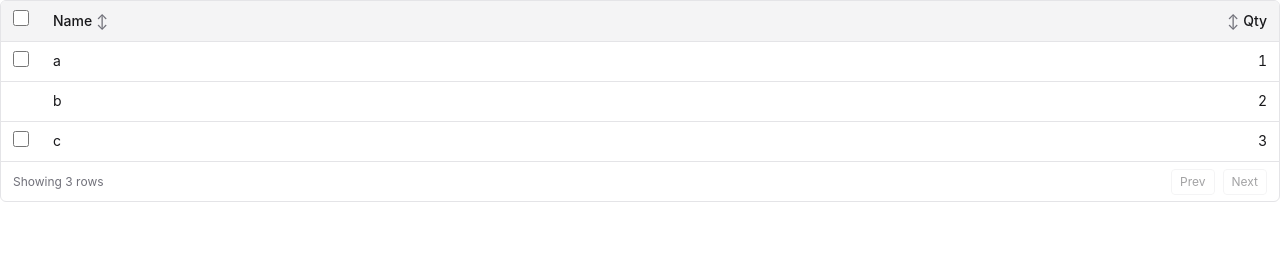
Scenario: selection and the bulk bar › only selectable rows get a checkbox; the header goes indeterminate, then all, then clears
Click the checkbox named "Select a" at x=21, y=58, box [13,50,29,66]
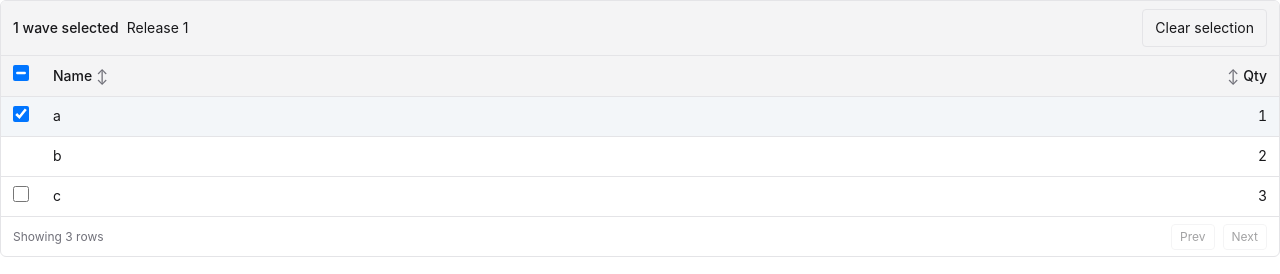
Expected: the element with test id "bulk-action-bar" shows "1 wave selected", [1,1,1279,56]
Click the checkbox named "Select all waves on this page" at x=21, y=73, box [13,65,29,81]
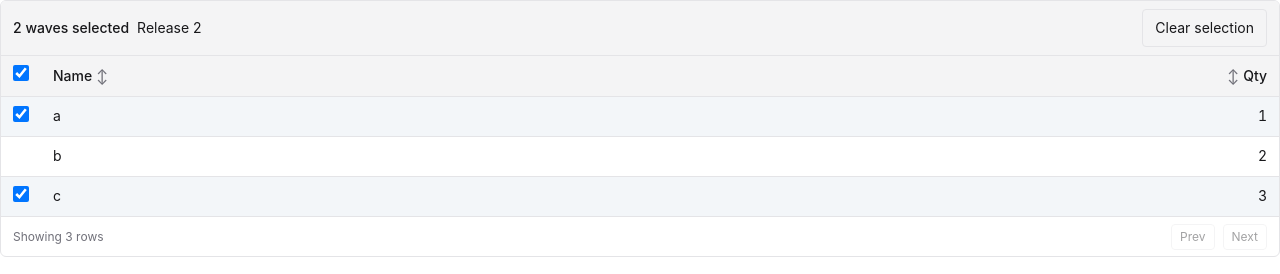
Expected: the checkbox named "Select all waves on this page" is checked
Expected: the element with test id "bulk-action-bar" shows "2 waves selected", [1,1,1279,56]
Click the checkbox named "Select all waves on this page" at x=21, y=73, box [13,65,29,81]
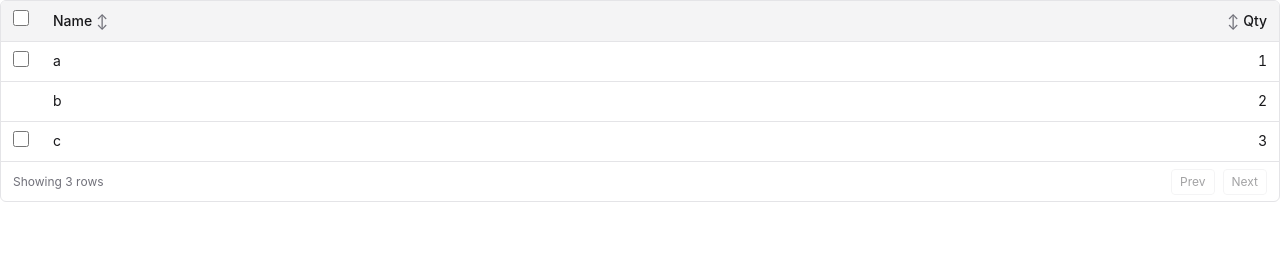
Expected: the element with test id "bulk-action-bar" is gone
